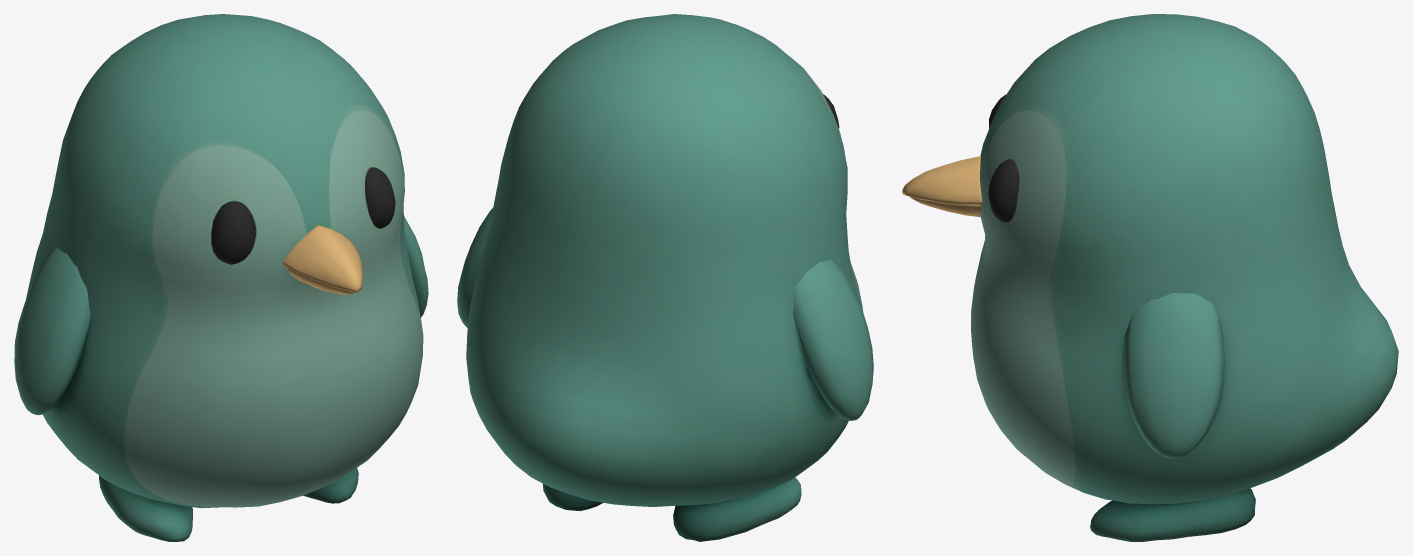
Rendered from asset_pack_item_glb-vd7d0dcraj58ycbcm7n9arqjjx8bztjr-6-ks72793zhs699dzxv7emsbx7xd8bz9qq.glb.
The picture shows the model from 3 angles, left to right: view 1: azimuth 30°, elevation 25°; view 2: azimuth 150°, elevation 25°; view 3: azimuth 270°, elevation 25°; orthographic projection.
Visible parts, largest first — view 1: adult-ginji; view 2: adult-ginji; view 3: adult-ginji.
Boxes of the visible parts, x1,y1,x2,y2 form: adult-ginji: (14, 14, 428, 541); adult-ginji: (457, 14, 873, 541); adult-ginji: (902, 14, 1398, 541).
Bounding box in the file's own units: 0.8926 × 0.998 × 0.9707.
1 material, 1 textured.
